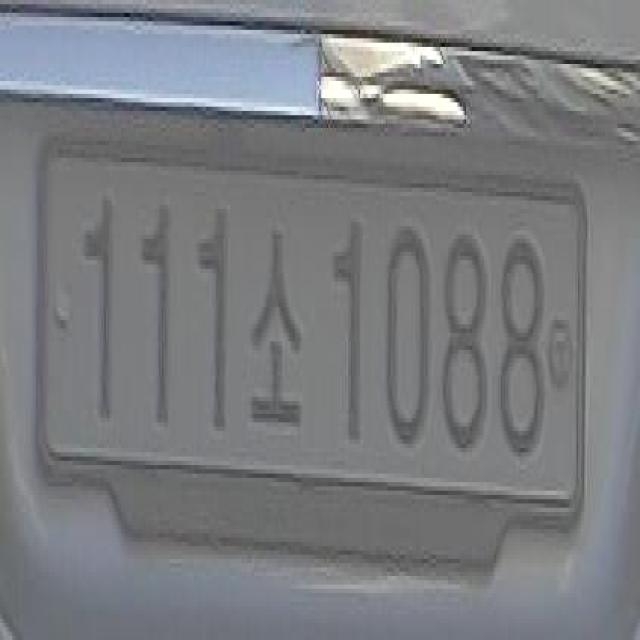illegal_plate: (26, 131, 603, 579)
